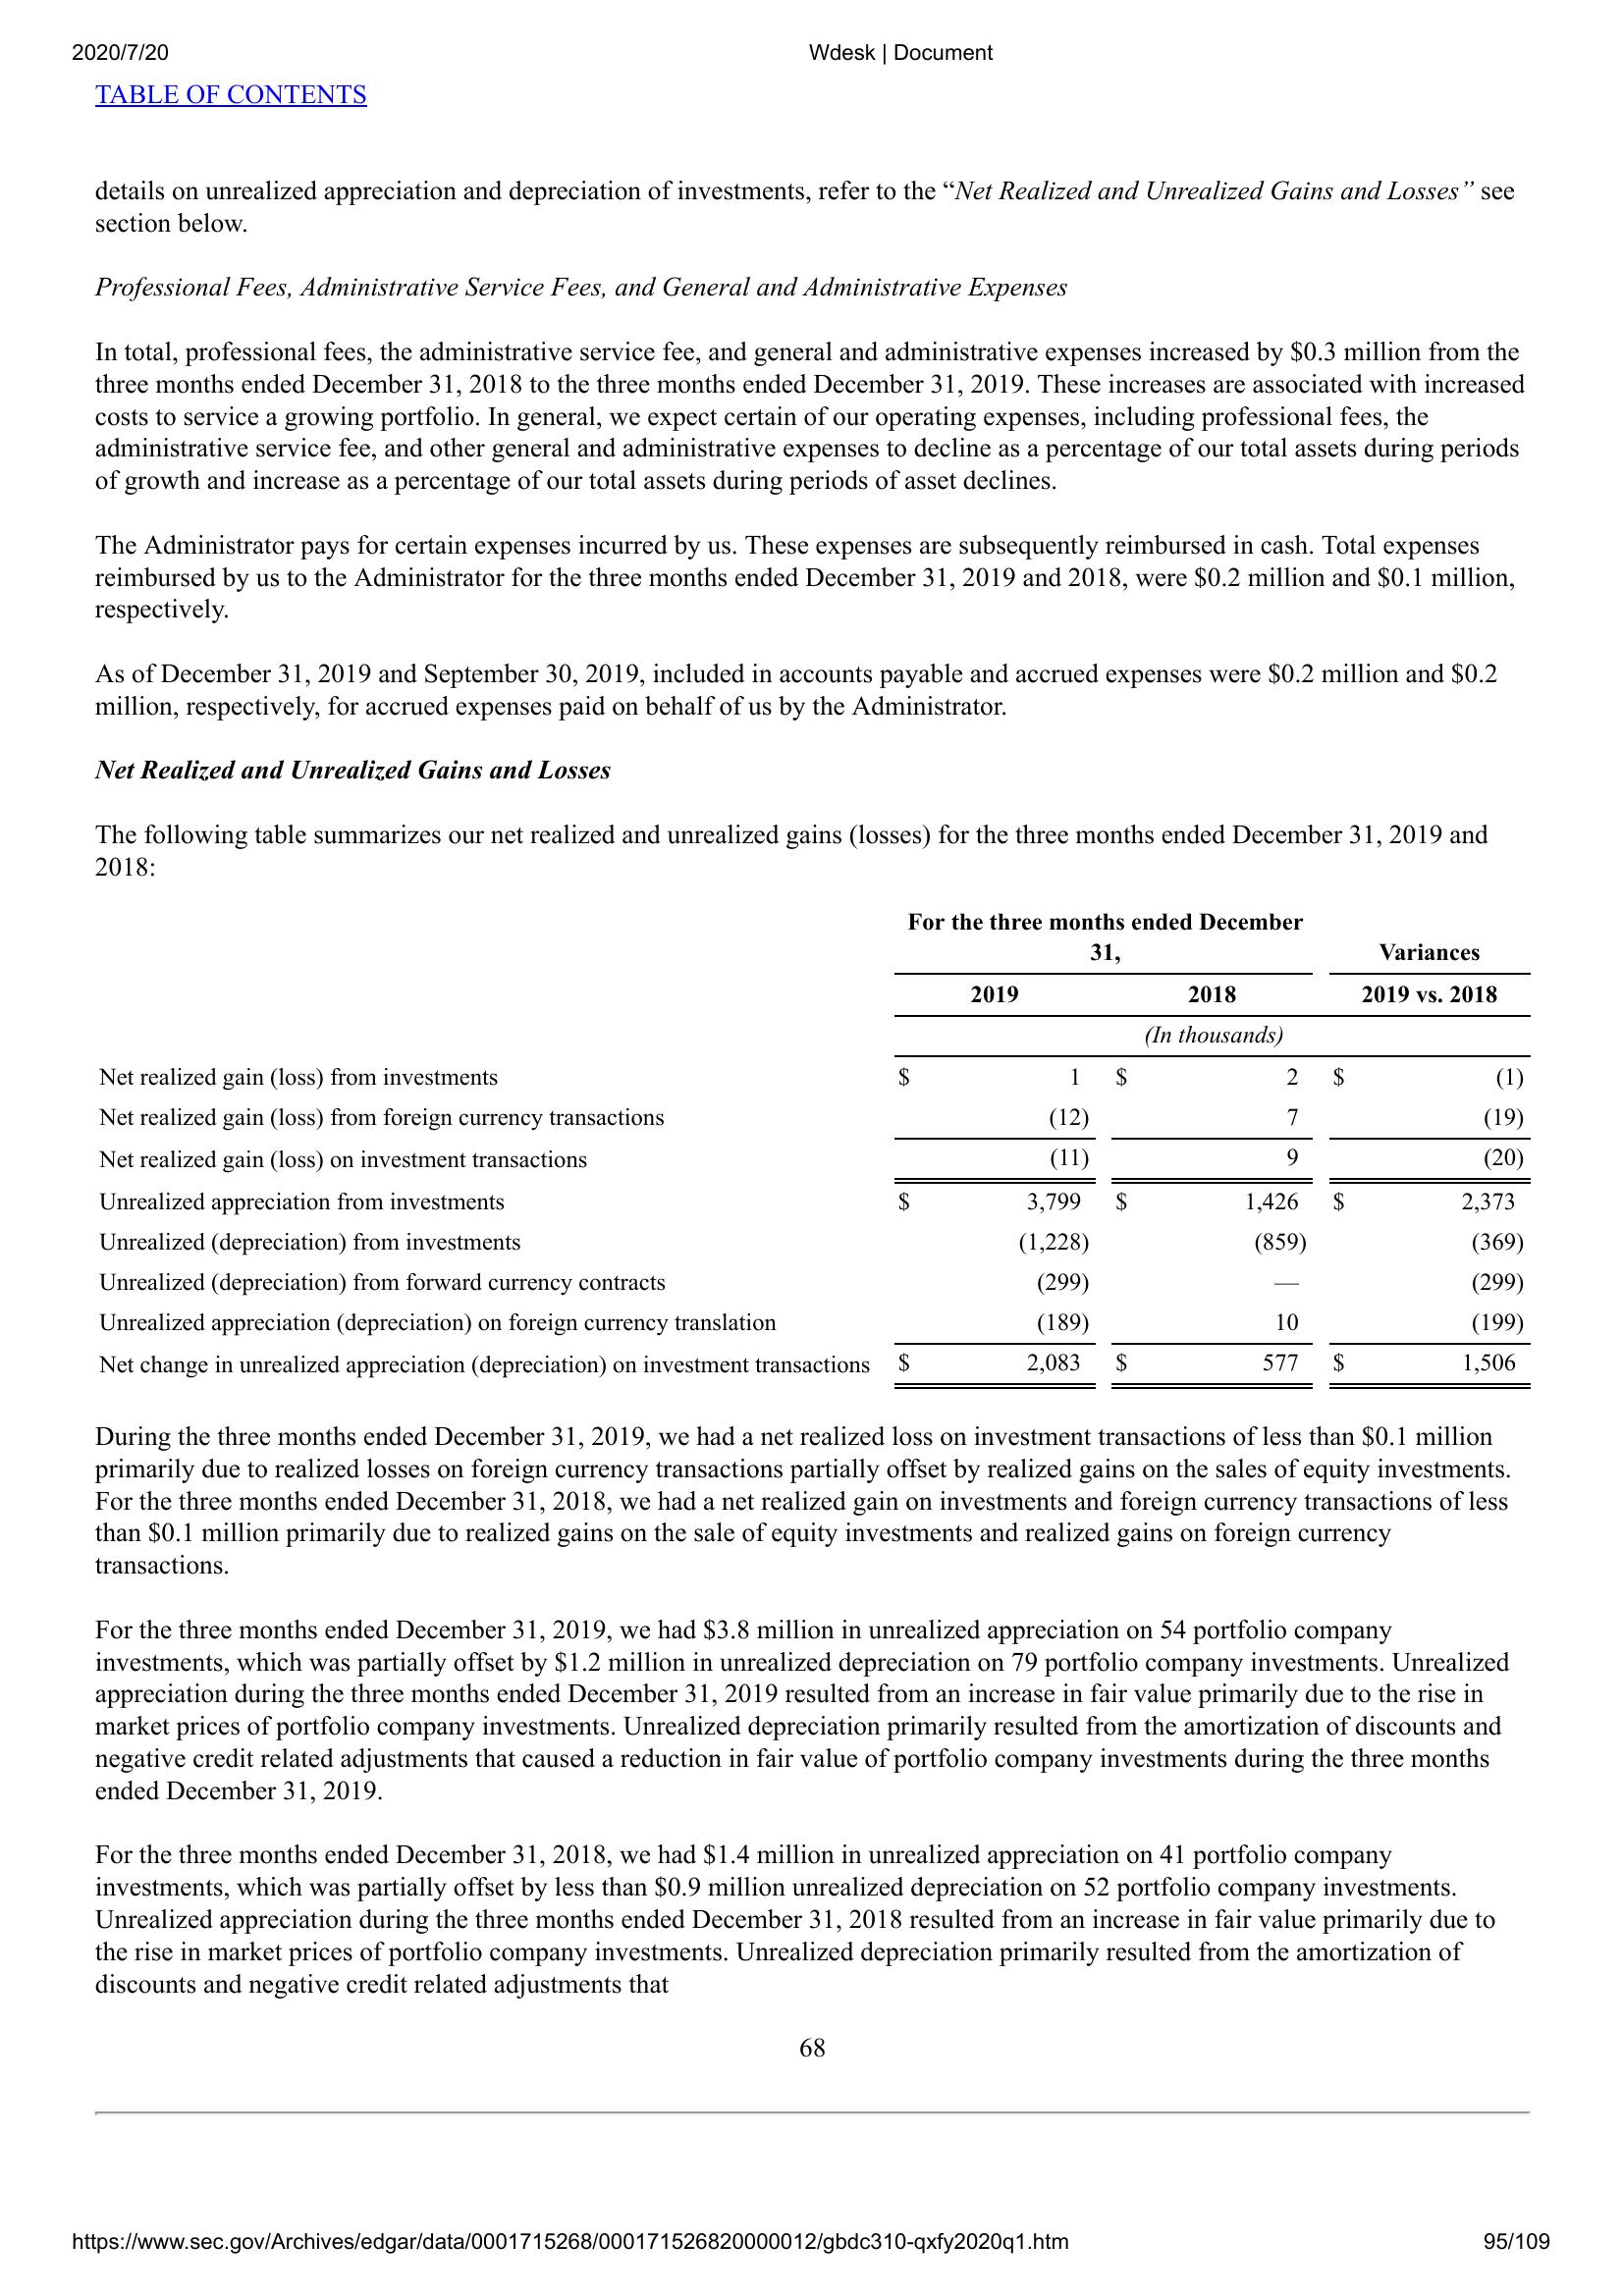table: (93, 915, 1542, 1403)
